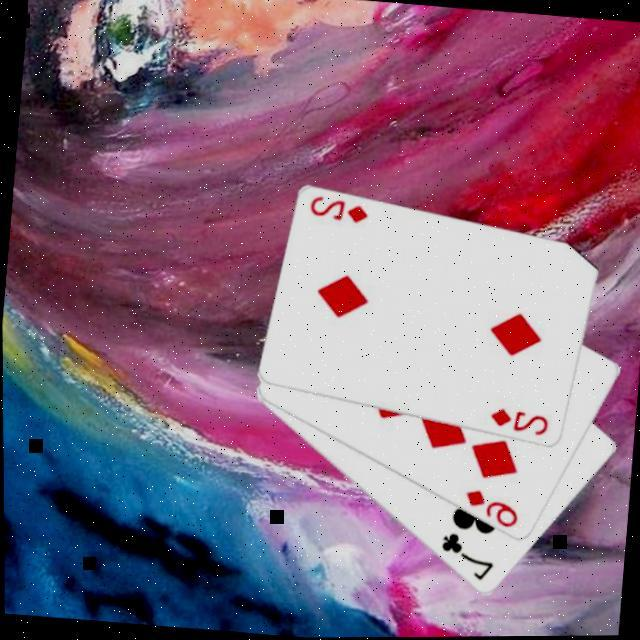2D: (484, 404, 550, 439), (303, 192, 369, 226)
7C: (431, 528, 495, 584)
9D: (458, 485, 520, 531)
